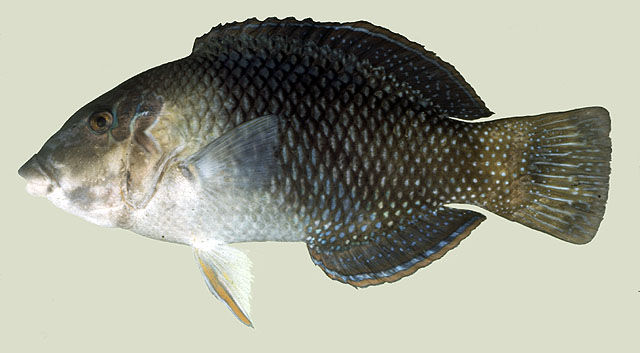fish: (17, 16, 613, 329)
